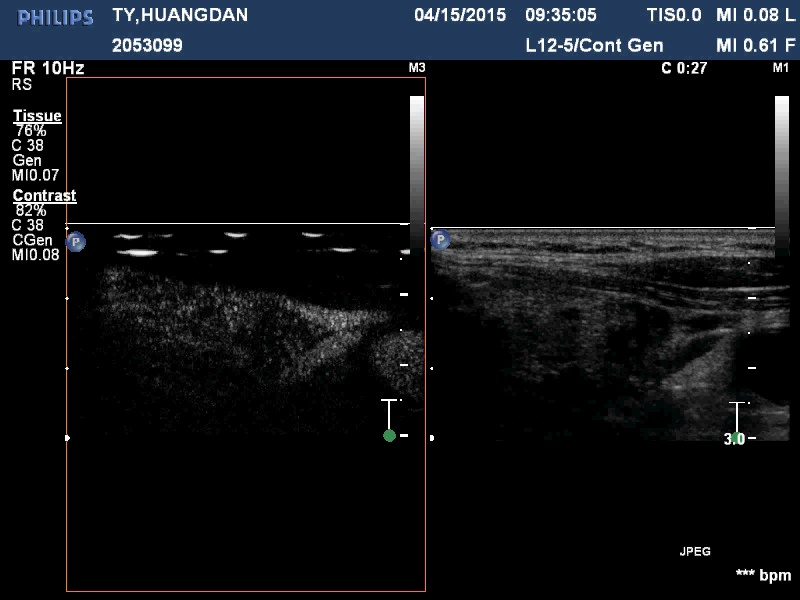thyroid: (454, 262, 688, 386)
